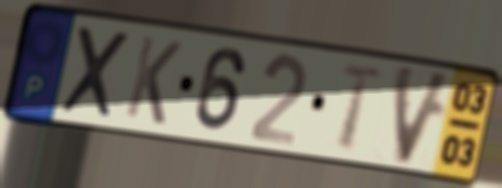2: (247, 50, 310, 149)
6: (193, 44, 248, 135)
K: (121, 32, 185, 129)
T: (336, 61, 387, 155)
V: (392, 60, 457, 169)
X: (56, 21, 134, 123)
